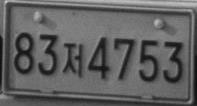3: (163, 40, 184, 84), (37, 34, 58, 75)
4: (87, 36, 111, 79)
5: (138, 38, 160, 82)
7: (113, 37, 136, 80)
8: (12, 30, 35, 75)
저: (61, 42, 83, 77)
